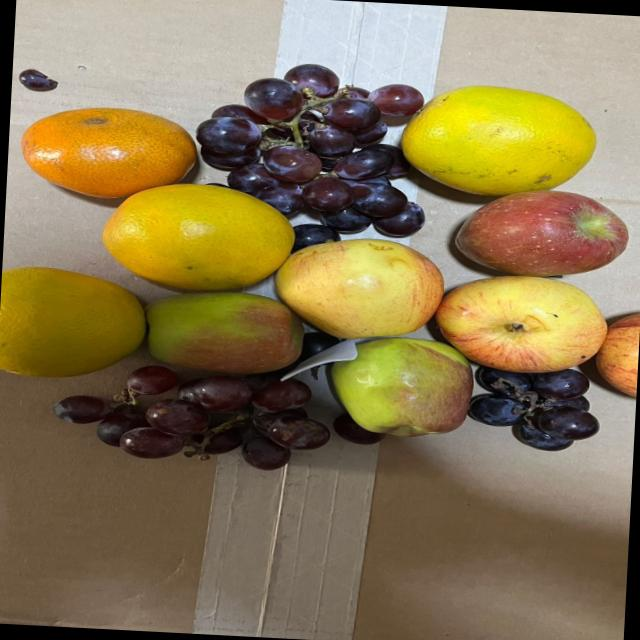hoja: (284, 340, 357, 384)
